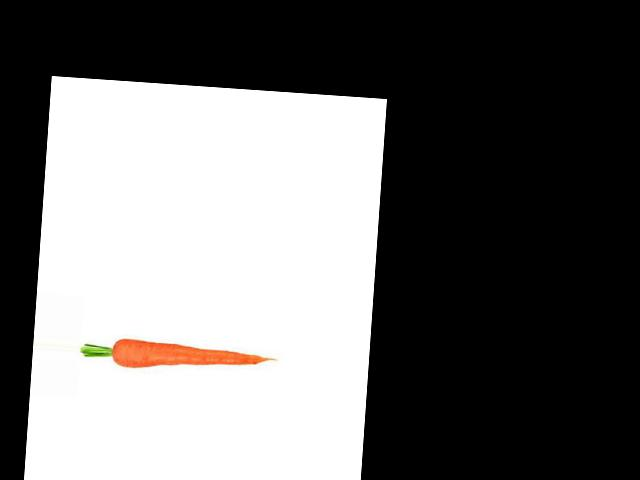carrot: (109, 331, 277, 379)
